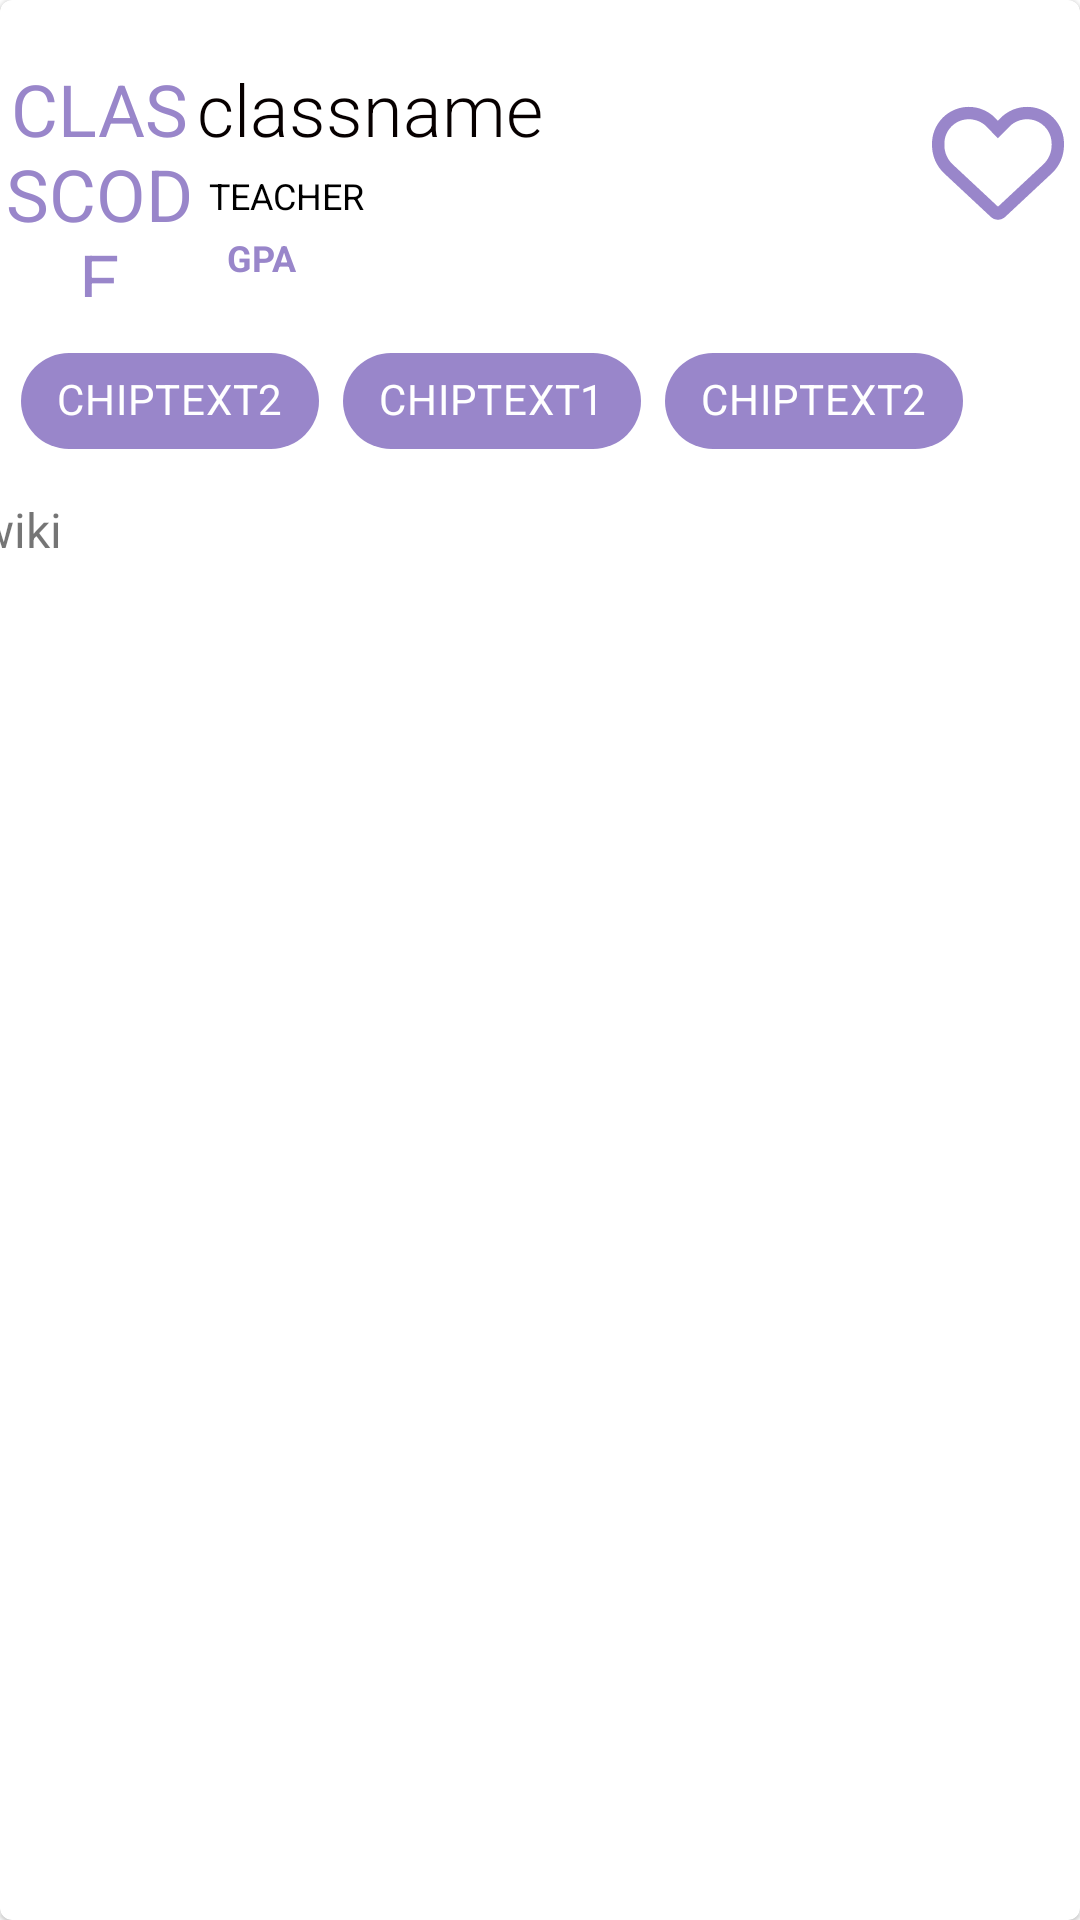

Screen size 1080px×1920px. Icon name, then its center in pixels as [x,y]:
heart: [998,163]
